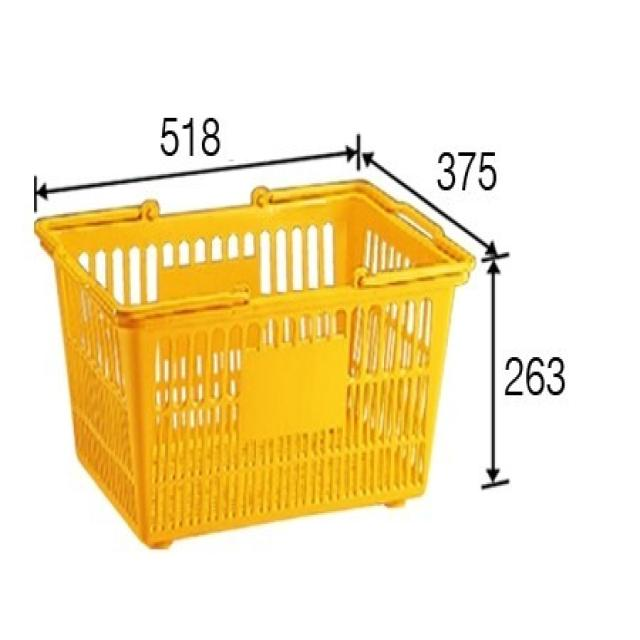basket: (33, 147, 514, 558)
